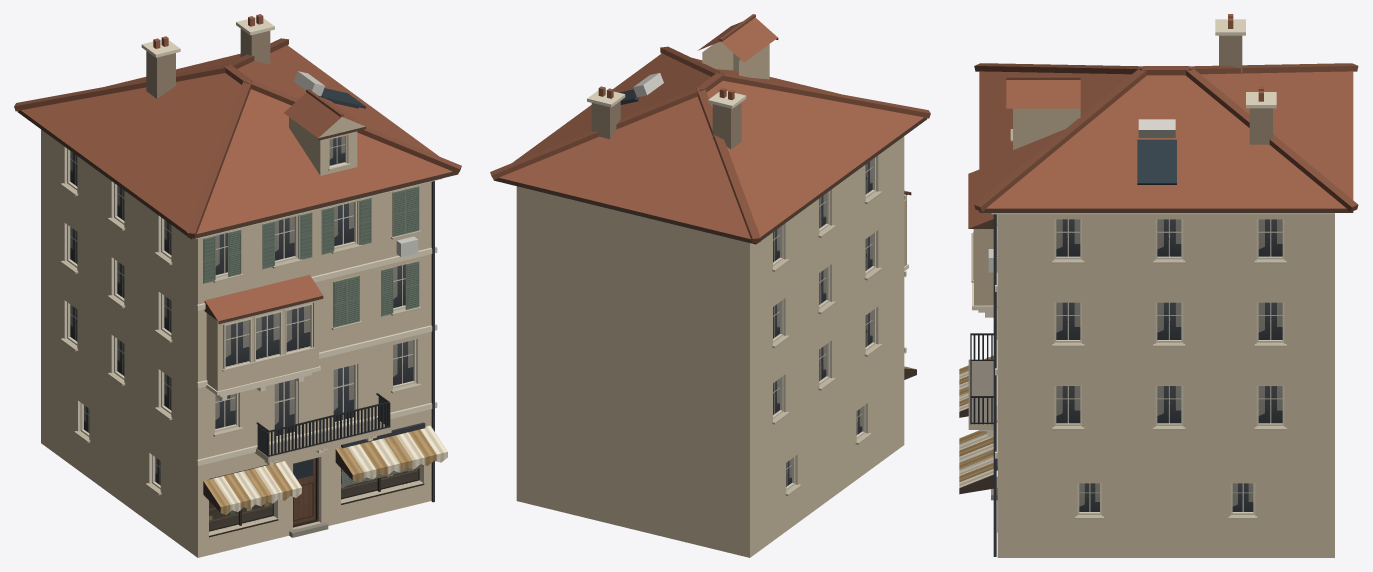
Rendered from hero_f.glb.
The picture shows the model from 3 angles, left to right: view 1: azimuth 30°, elevation 25°; view 2: azimuth 150°, elevation 25°; view 3: azimuth 270°, elevation 25°; orthographic projection. The views are drawn at different scales.
Visible parts, largest first — view 1: bld_hero_old_core; view 2: bld_hero_old_core; view 3: bld_hero_old_core.
Part boxes in pixels (x1,y1,x2,y2): bld_hero_old_core: (14, 14, 461, 557); bld_hero_old_core: (490, 14, 930, 557); bld_hero_old_core: (959, 14, 1358, 557).
Bounding box in the file's own units: 11.14 × 16.34 × 13.02.
Materials: 1 (1 with a texture image).
